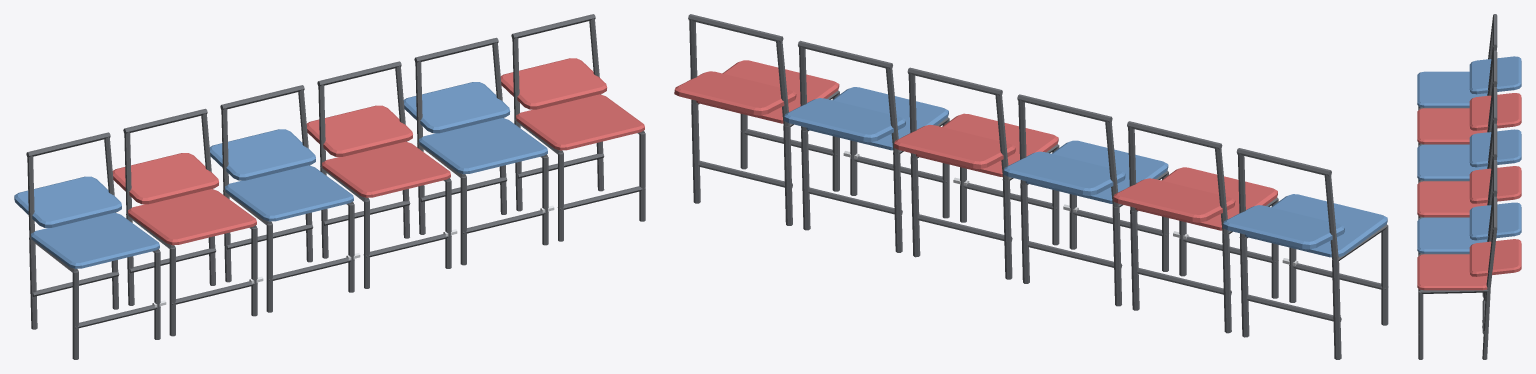
Rendered from village-hall-and-community-events-stacking-chair-row-fcb22800.glb.
The picture shows the model from 3 angles, left to right: view 1: azimuth 30°, elevation 25°; view 2: azimuth 150°, elevation 25°; view 3: azimuth 270°, elevation 25°; orthographic projection. The views are drawn at different scales.
Parts seen in each view (by area): view 1: stacking-chair-row; view 2: stacking-chair-row; view 3: stacking-chair-row.
Boxes of the visible parts, <box> form: stacking-chair-row: <box>14,14,645,359</box>; stacking-chair-row: <box>674,14,1388,359</box>; stacking-chair-row: <box>1417,14,1521,359</box>.
Bounding box in the file's own units: 2.96 × 0.8418 × 0.603.
